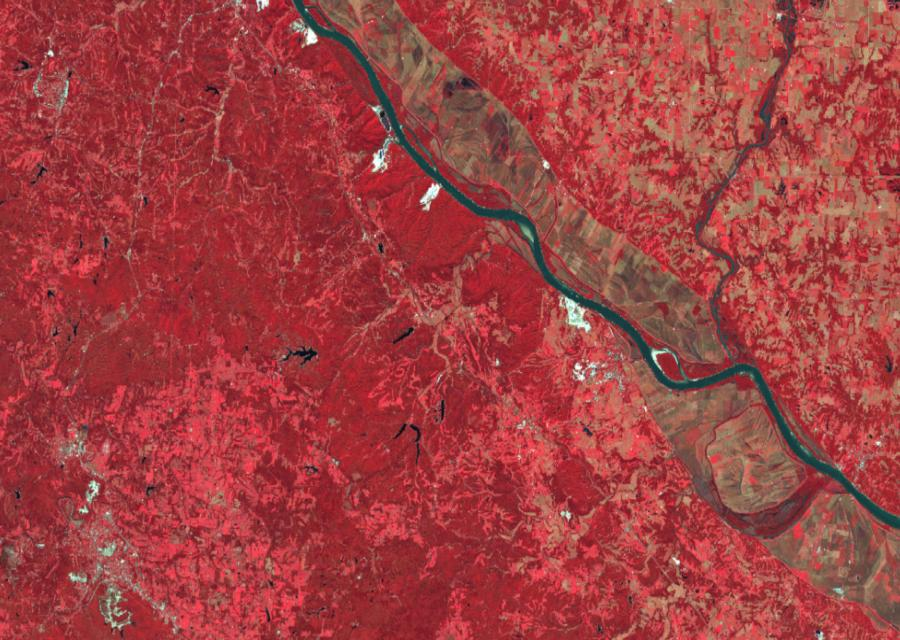Potential Lime Manufacturing Facility: (565, 296, 591, 333)
